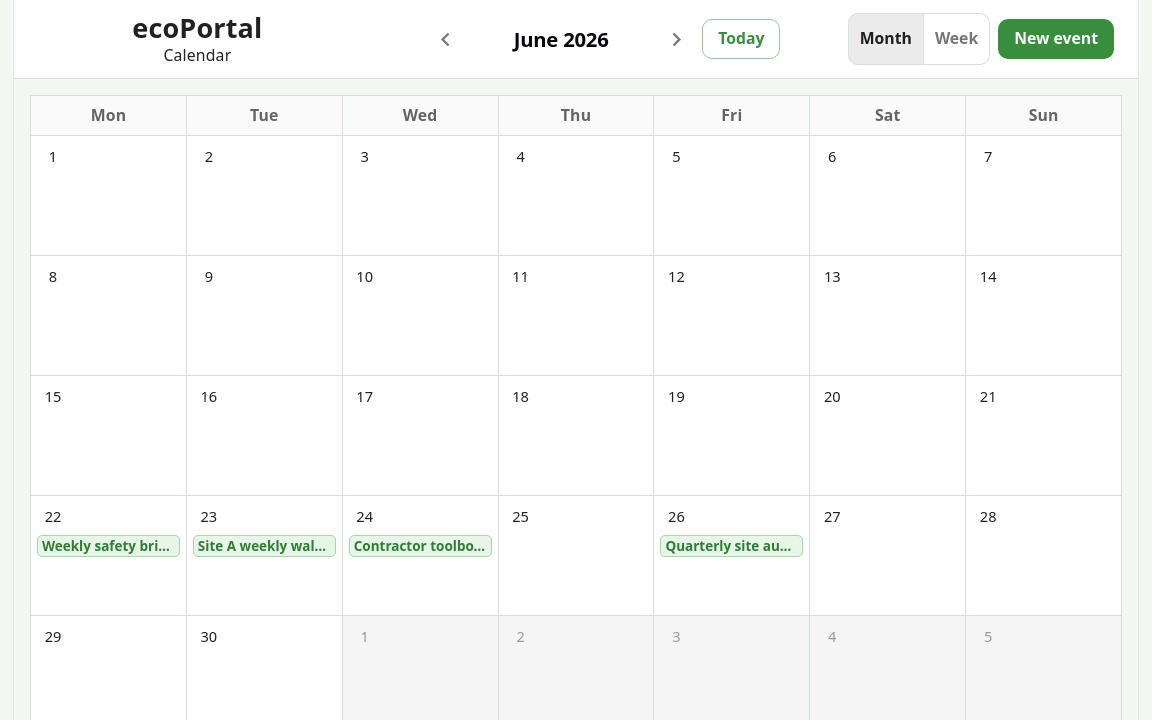
Test: App integration › navigation › moves to July 2026 with next in month view
Step 1. Click the button named "Next month" → (677, 39), box [655, 18, 698, 60]
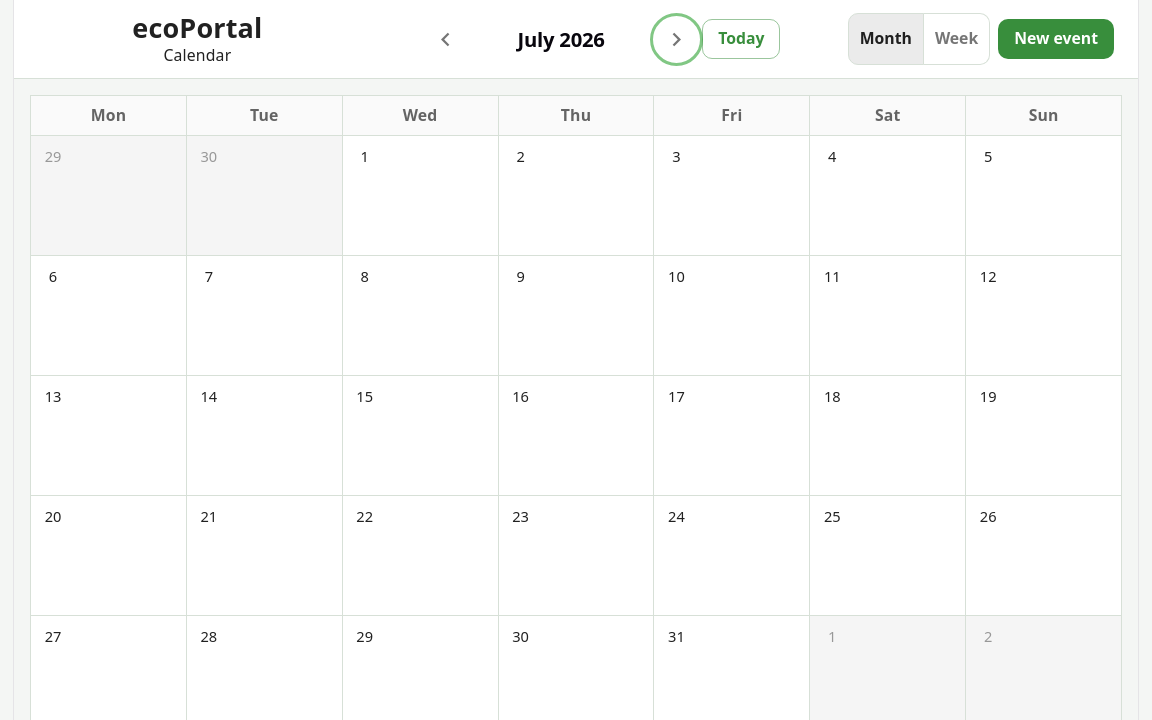
Now the heading "July 2026" is shown, box [518, 25, 605, 53]
